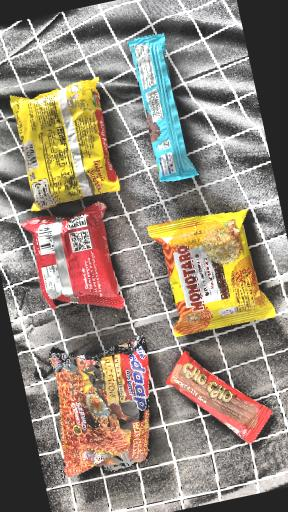chocho: (151, 340, 283, 468)
dilan: (106, 9, 238, 209)
indomie: (8, 67, 157, 241)
mie sedap: (0, 184, 152, 346), (45, 342, 193, 505)
momotaro: (151, 201, 278, 351)
